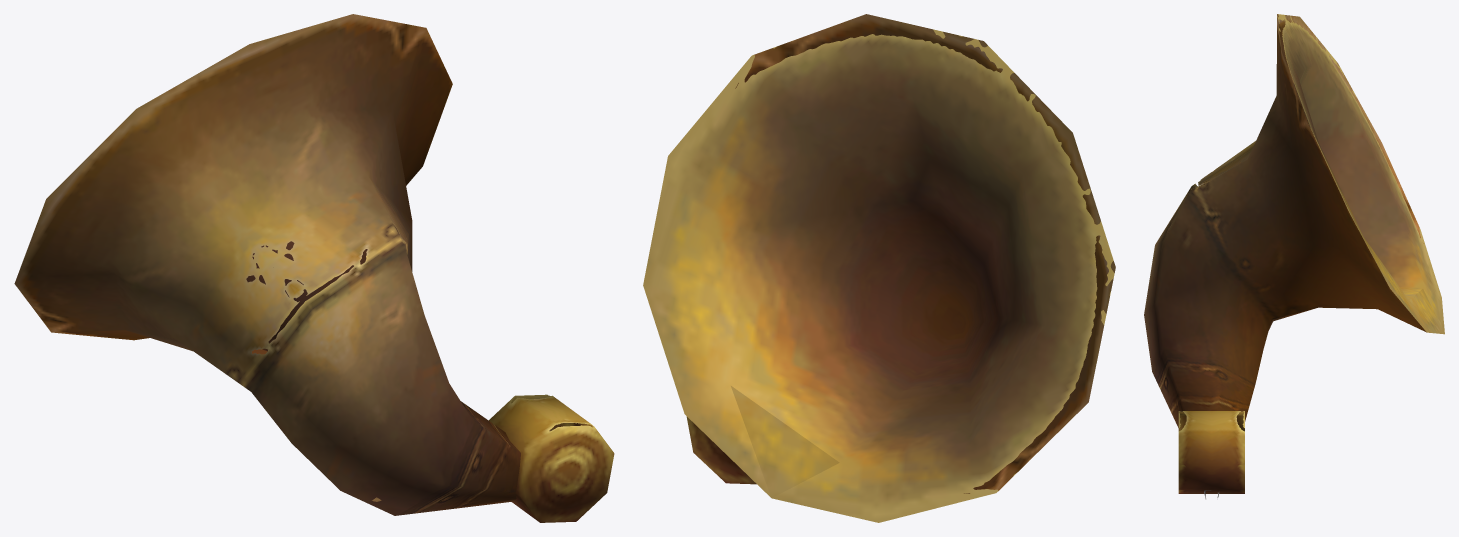
Rendered from trompeta_derecha.obj.
The picture shows the model from 3 angles, left to right: view 1: azimuth 30°, elevation 25°; view 2: azimuth 150°, elevation 25°; view 3: azimuth 270°, elevation 25°; orthographic projection. The views are drawn at different scales.
Visible parts, largest first — view 1: turntable:trompeta_derecha; view 2: turntable:trompeta_derecha; view 3: turntable:trompeta_derecha.
Boxes of the visible parts, x1,y1,x2,y2 form: turntable:trompeta_derecha: [14, 14, 614, 522]; turntable:trompeta_derecha: [643, 14, 1115, 522]; turntable:trompeta_derecha: [1144, 14, 1444, 499].
Bounding box in the file's own units: 0.8034 × 0.8471 × 0.5812.
Materials: 1 (1 with a texture image).
